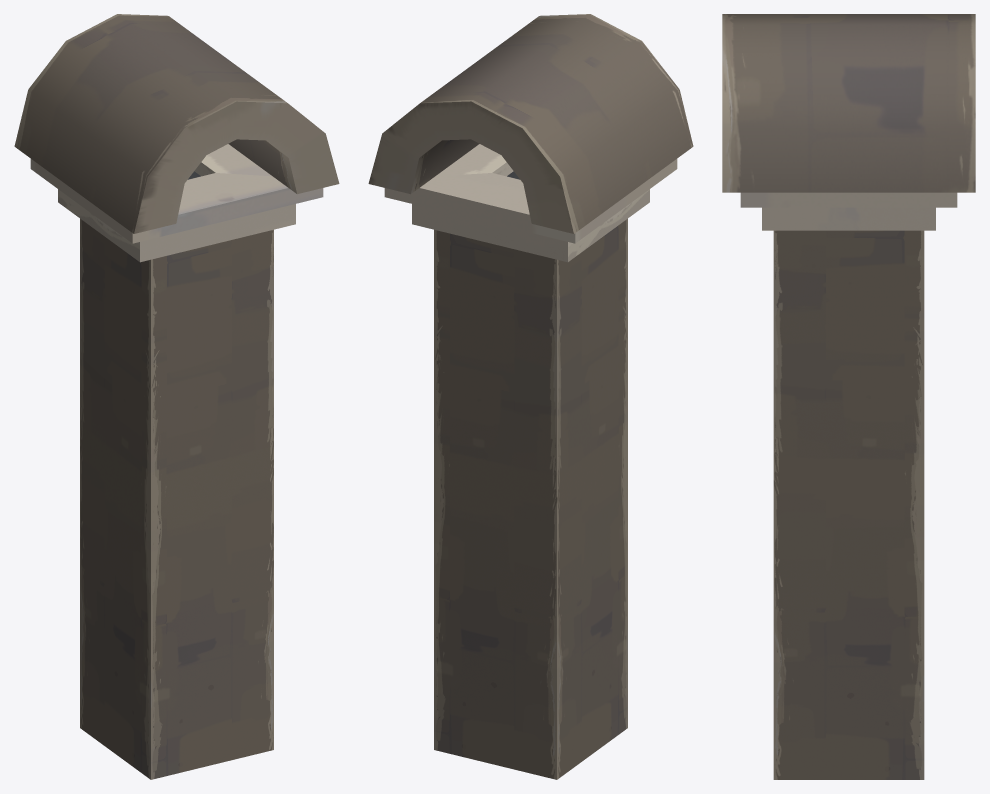
Rendered from MOD_Chimney_03_01.fbx.
3 renders of one model, left to right at view 1: azimuth 30°, elevation 25°; view 2: azimuth 150°, elevation 25°; view 3: azimuth 270°, elevation 25°, orthographic. The views are drawn at different scales.
Visible parts, largest first — view 1: MOD_Chimney_03_01; view 2: MOD_Chimney_03_01; view 3: MOD_Chimney_03_01.
Part boxes in pixels (x1,y1,x2,y2): MOD_Chimney_03_01: (14,14,339,779); MOD_Chimney_03_01: (368,14,693,779); MOD_Chimney_03_01: (722,14,975,779).
Bounding box in the file's own units: 151 × 479 × 152.
